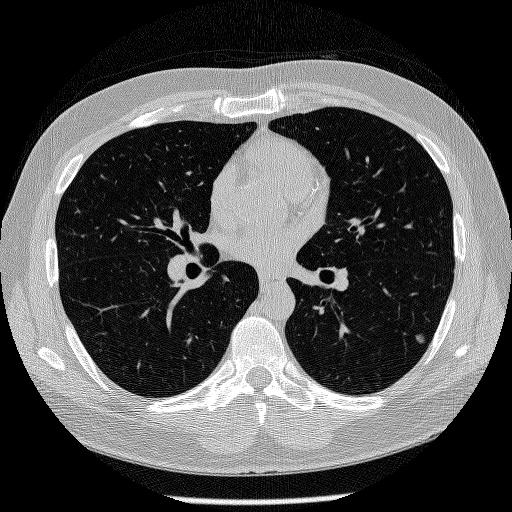nodule: (414, 332, 427, 345)
